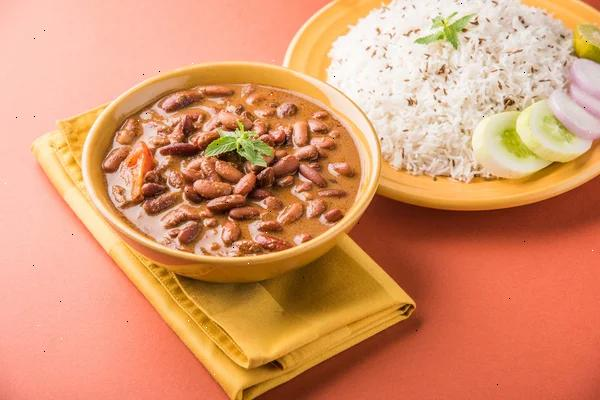rajma: (105, 83, 347, 248)
rice: (350, 3, 599, 182)
